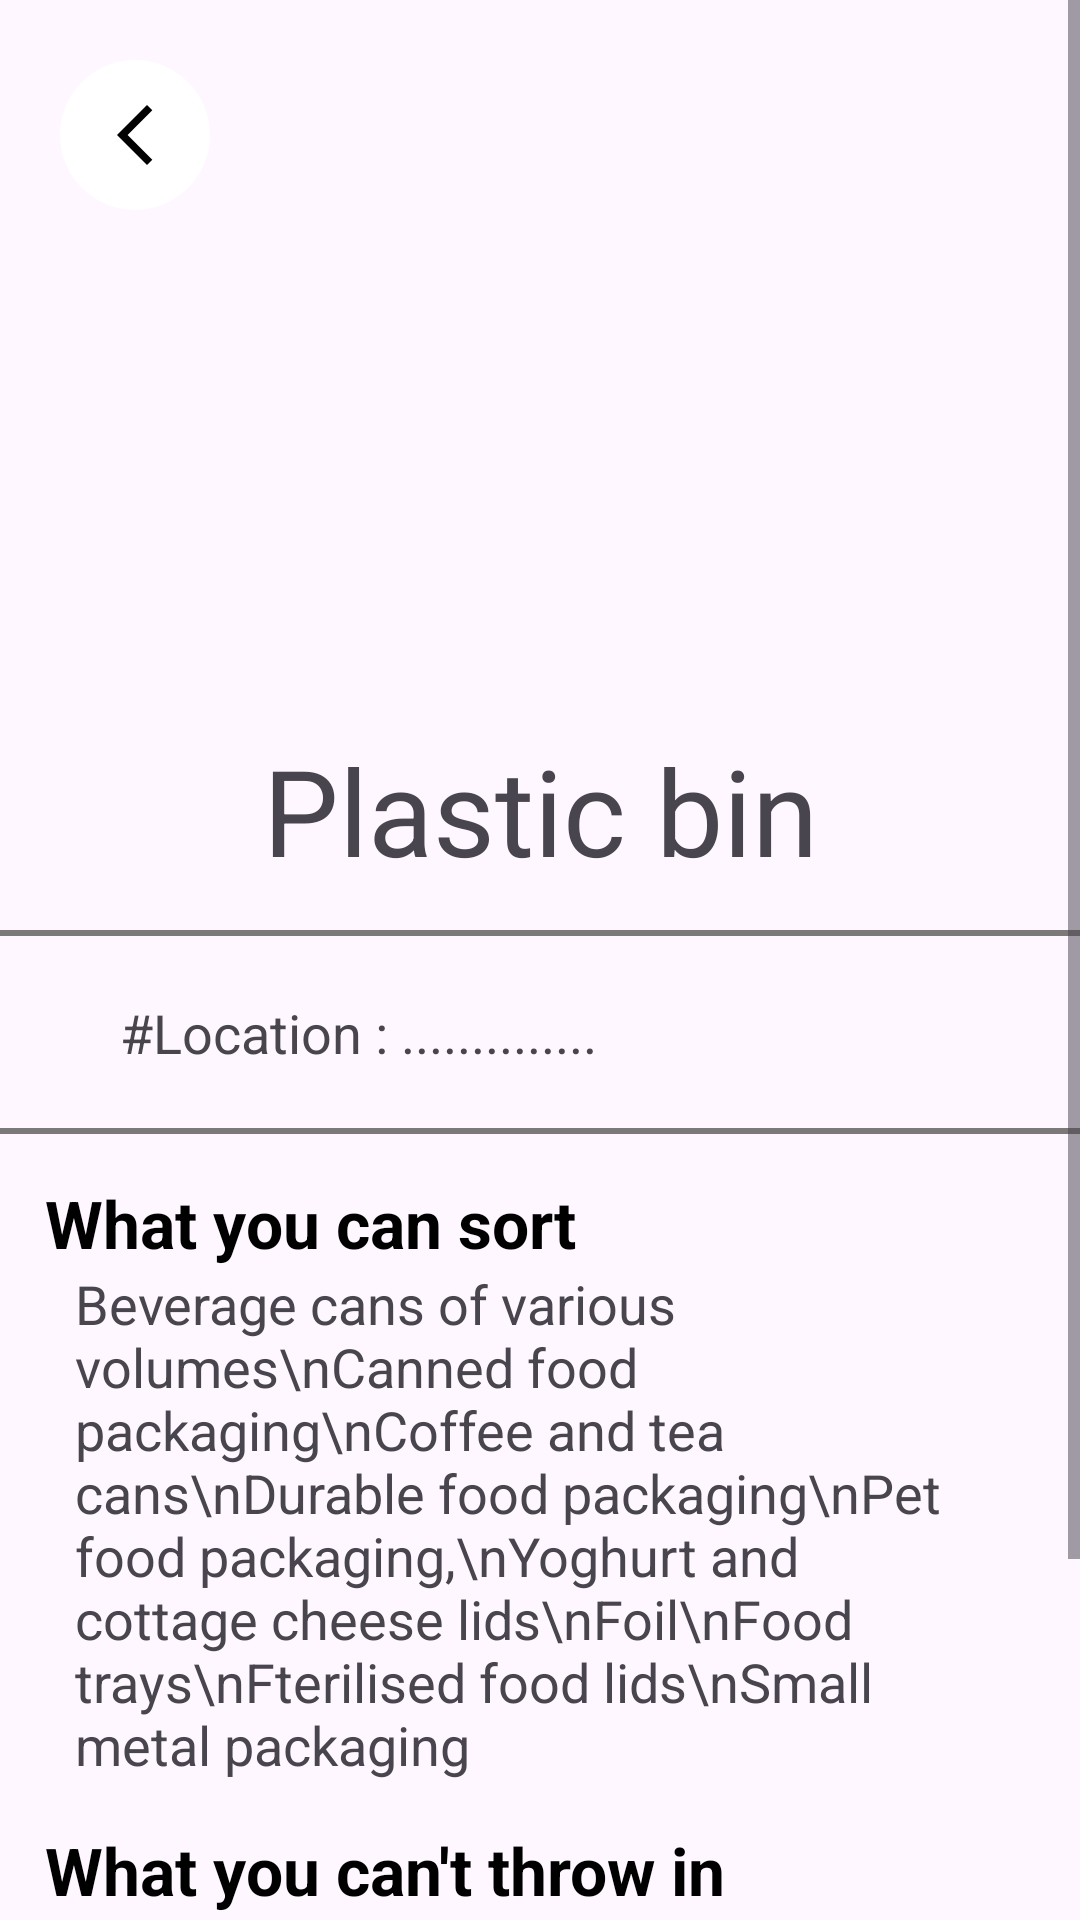

Icons on this 1080 x 1920 Android screen, each with the point to tap as [x,y]:
arrow back: [134,135]
